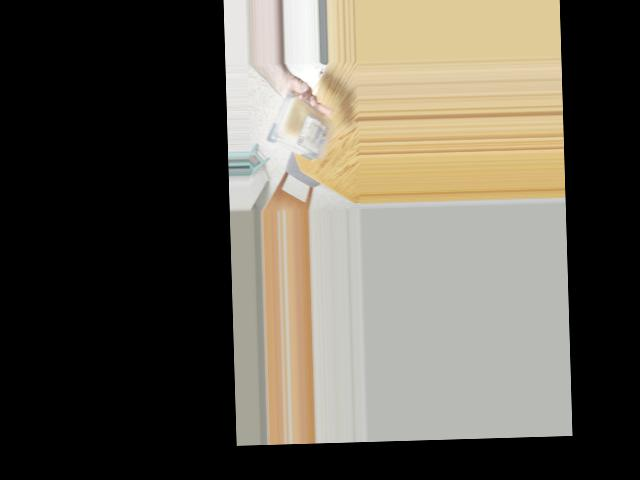cheese: (269, 92, 327, 166)
